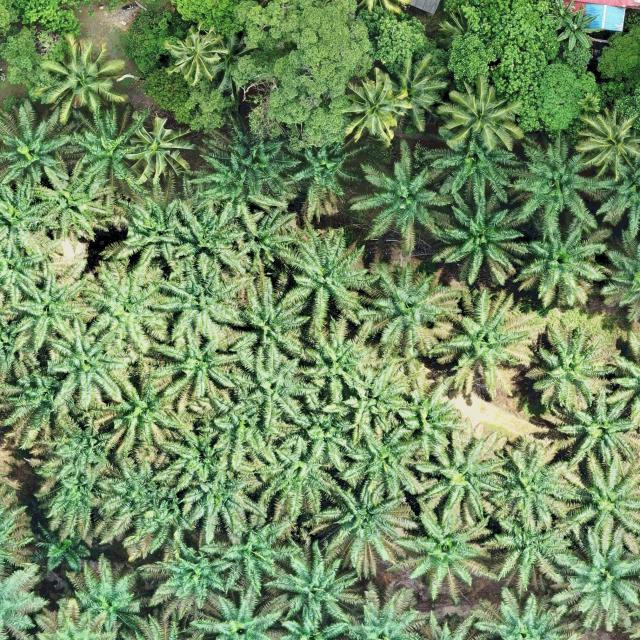Tree: (443, 0, 601, 133), (274, 214, 384, 330), (431, 282, 537, 400), (249, 529, 361, 640), (306, 468, 414, 583), (510, 124, 626, 230), (346, 146, 452, 262), (355, 250, 464, 360), (383, 498, 494, 606), (426, 184, 532, 288), (549, 521, 640, 636), (411, 421, 514, 522), (506, 214, 612, 310), (30, 36, 134, 131), (482, 431, 575, 537), (476, 507, 580, 601), (523, 315, 622, 413), (224, 337, 326, 431), (138, 540, 247, 625), (157, 251, 252, 346), (0, 361, 96, 454), (8, 256, 97, 356), (331, 420, 432, 508), (46, 312, 134, 412), (198, 510, 301, 595), (90, 374, 190, 456), (80, 258, 170, 345), (149, 322, 244, 404), (557, 445, 640, 538), (178, 463, 272, 545), (428, 124, 522, 206), (29, 156, 116, 244), (231, 268, 313, 360), (149, 413, 248, 489), (298, 314, 379, 406), (257, 436, 343, 522), (554, 382, 640, 468), (328, 358, 415, 441), (166, 195, 250, 278), (38, 464, 123, 546), (286, 133, 368, 218), (98, 445, 184, 524), (182, 150, 291, 212), (63, 551, 145, 633), (436, 75, 520, 154), (113, 188, 189, 272), (0, 102, 70, 191), (0, 174, 65, 268), (36, 411, 121, 479), (336, 580, 432, 640), (357, 4, 435, 75), (340, 69, 412, 143), (574, 108, 640, 182), (126, 115, 195, 185), (394, 386, 463, 455), (233, 204, 299, 266), (164, 24, 226, 82), (557, 5, 599, 51), (544, 0, 585, 31)
